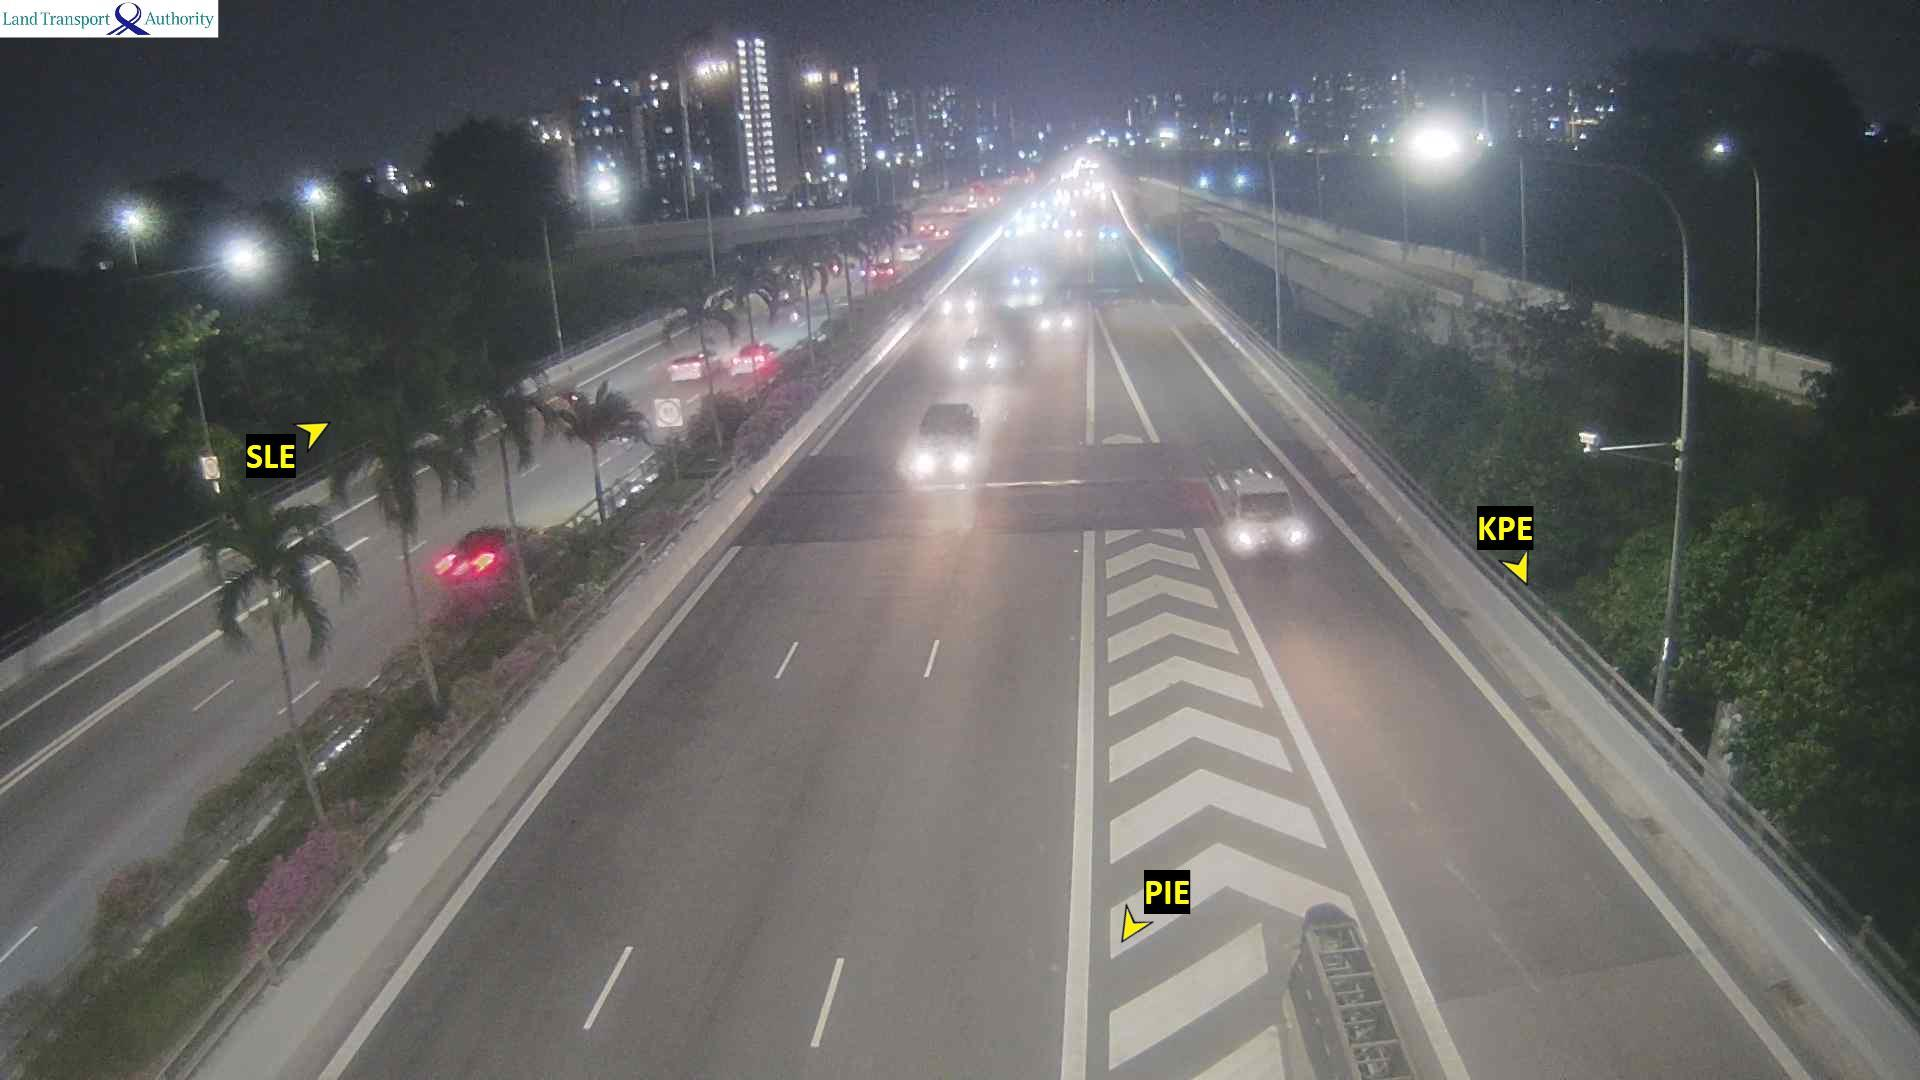incoming: (1226, 488, 1324, 567), (906, 409, 989, 492), (956, 339, 1004, 381), (936, 293, 984, 320), (1039, 306, 1076, 338), (1098, 228, 1129, 252), (1007, 268, 1040, 289)
